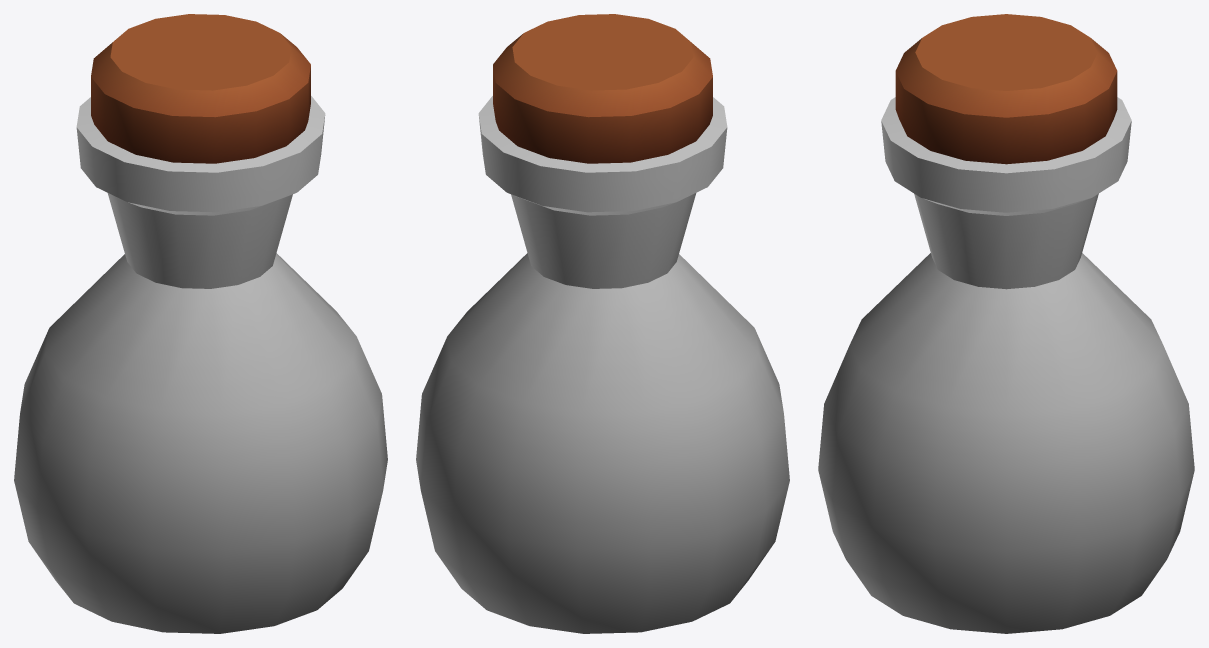
Rendered from Posion-6.fbx.
3 views of the same model, side by side, from view 1: azimuth 30°, elevation 25°; view 2: azimuth 150°, elevation 25°; view 3: azimuth 270°, elevation 25° (orthographic).
Visible parts, largest first — view 1: Posion-6; view 2: Posion-6; view 3: Posion-6.
Boxes of the visible parts, x1,y1,x2,y2 form: Posion-6: (14, 14, 387, 633); Posion-6: (416, 14, 789, 633); Posion-6: (818, 14, 1194, 633).
Size of the model in its own units: 41.46 by 63.1 by 41.46.
